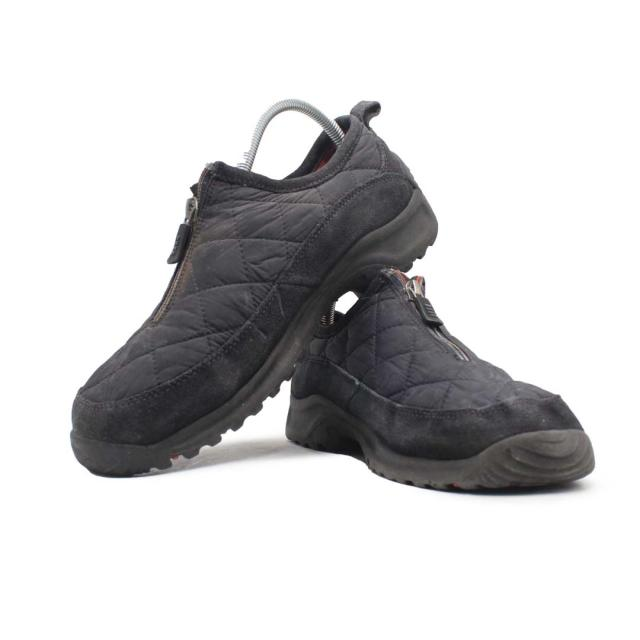heel: (334, 96, 412, 230)
midsole: (69, 184, 439, 479), (288, 396, 593, 498)
uppersole: (72, 159, 375, 442), (322, 276, 579, 458)
